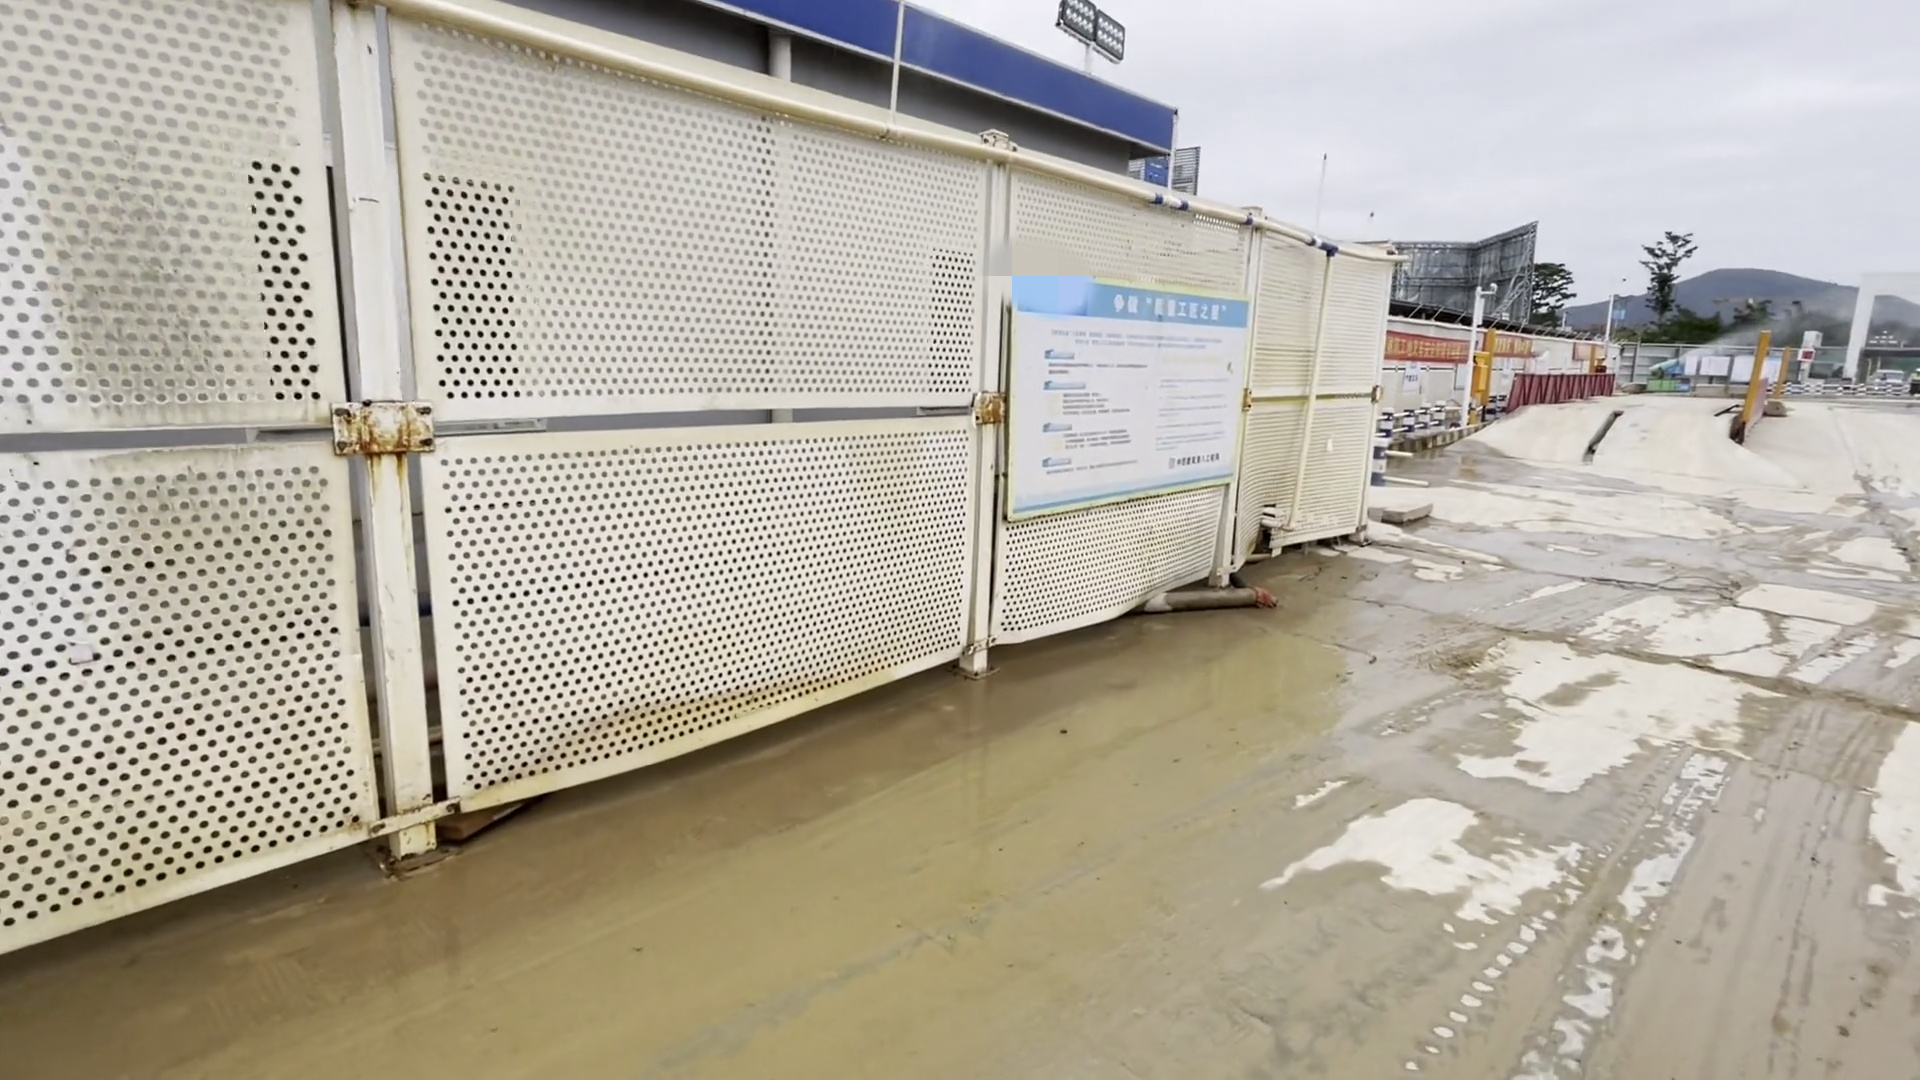slogan: (1006, 268, 1251, 529)
